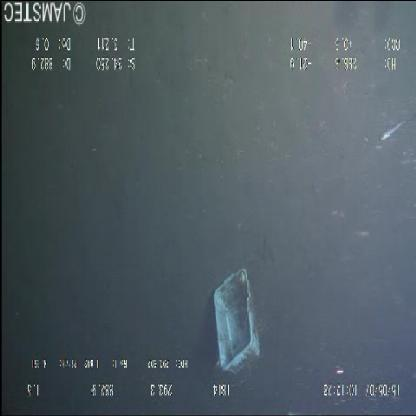Rác: (209, 256, 268, 390)
